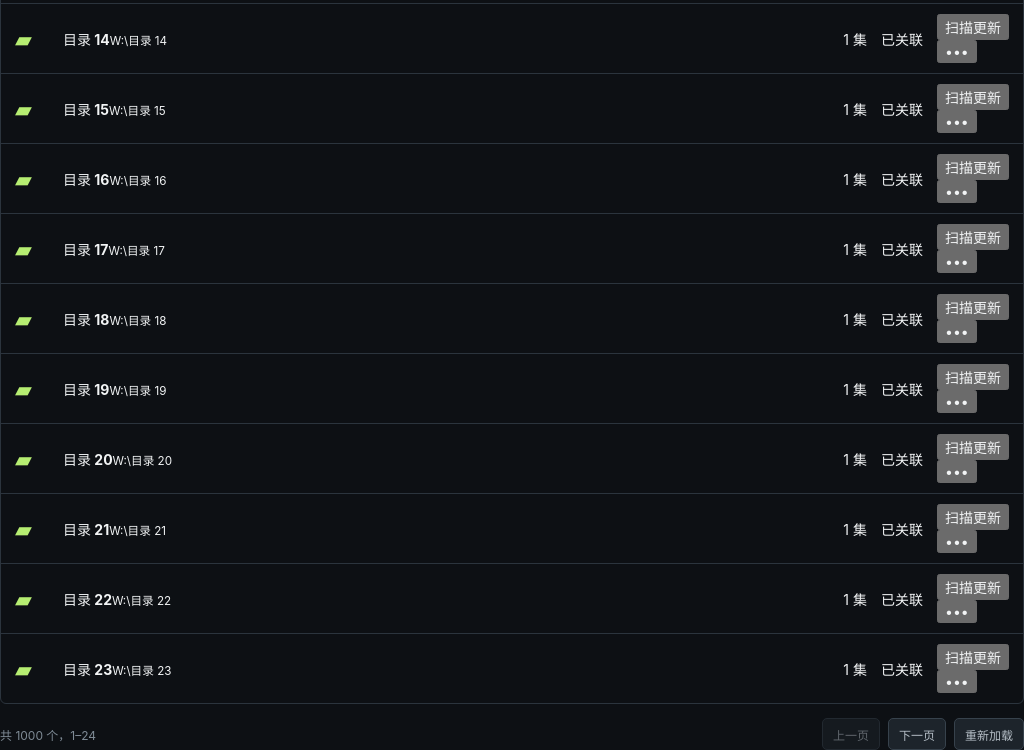
Test: LibraryFoldersView › bounds rendered folder rows for a large authorization list
The image size is (1024, 750).
(page scrolled)
Click the button "下一页": [917, 734] box [888,718,946,749]
(page scrolled)
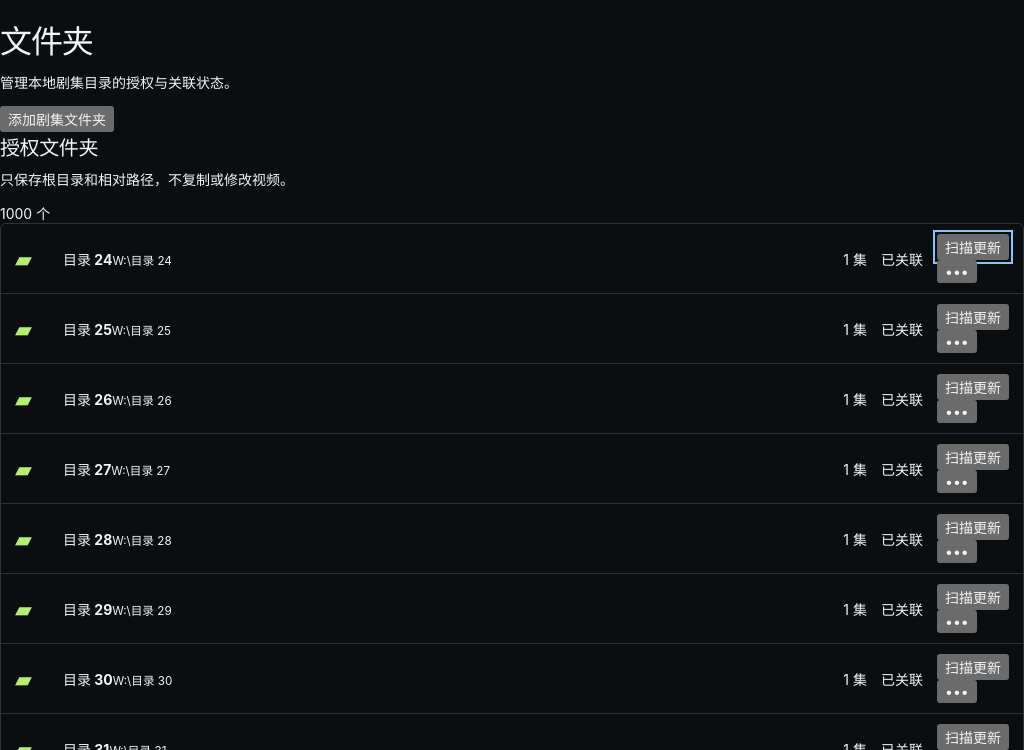
Expected: the text "目录 24" is shown, [63,250,112,268]
